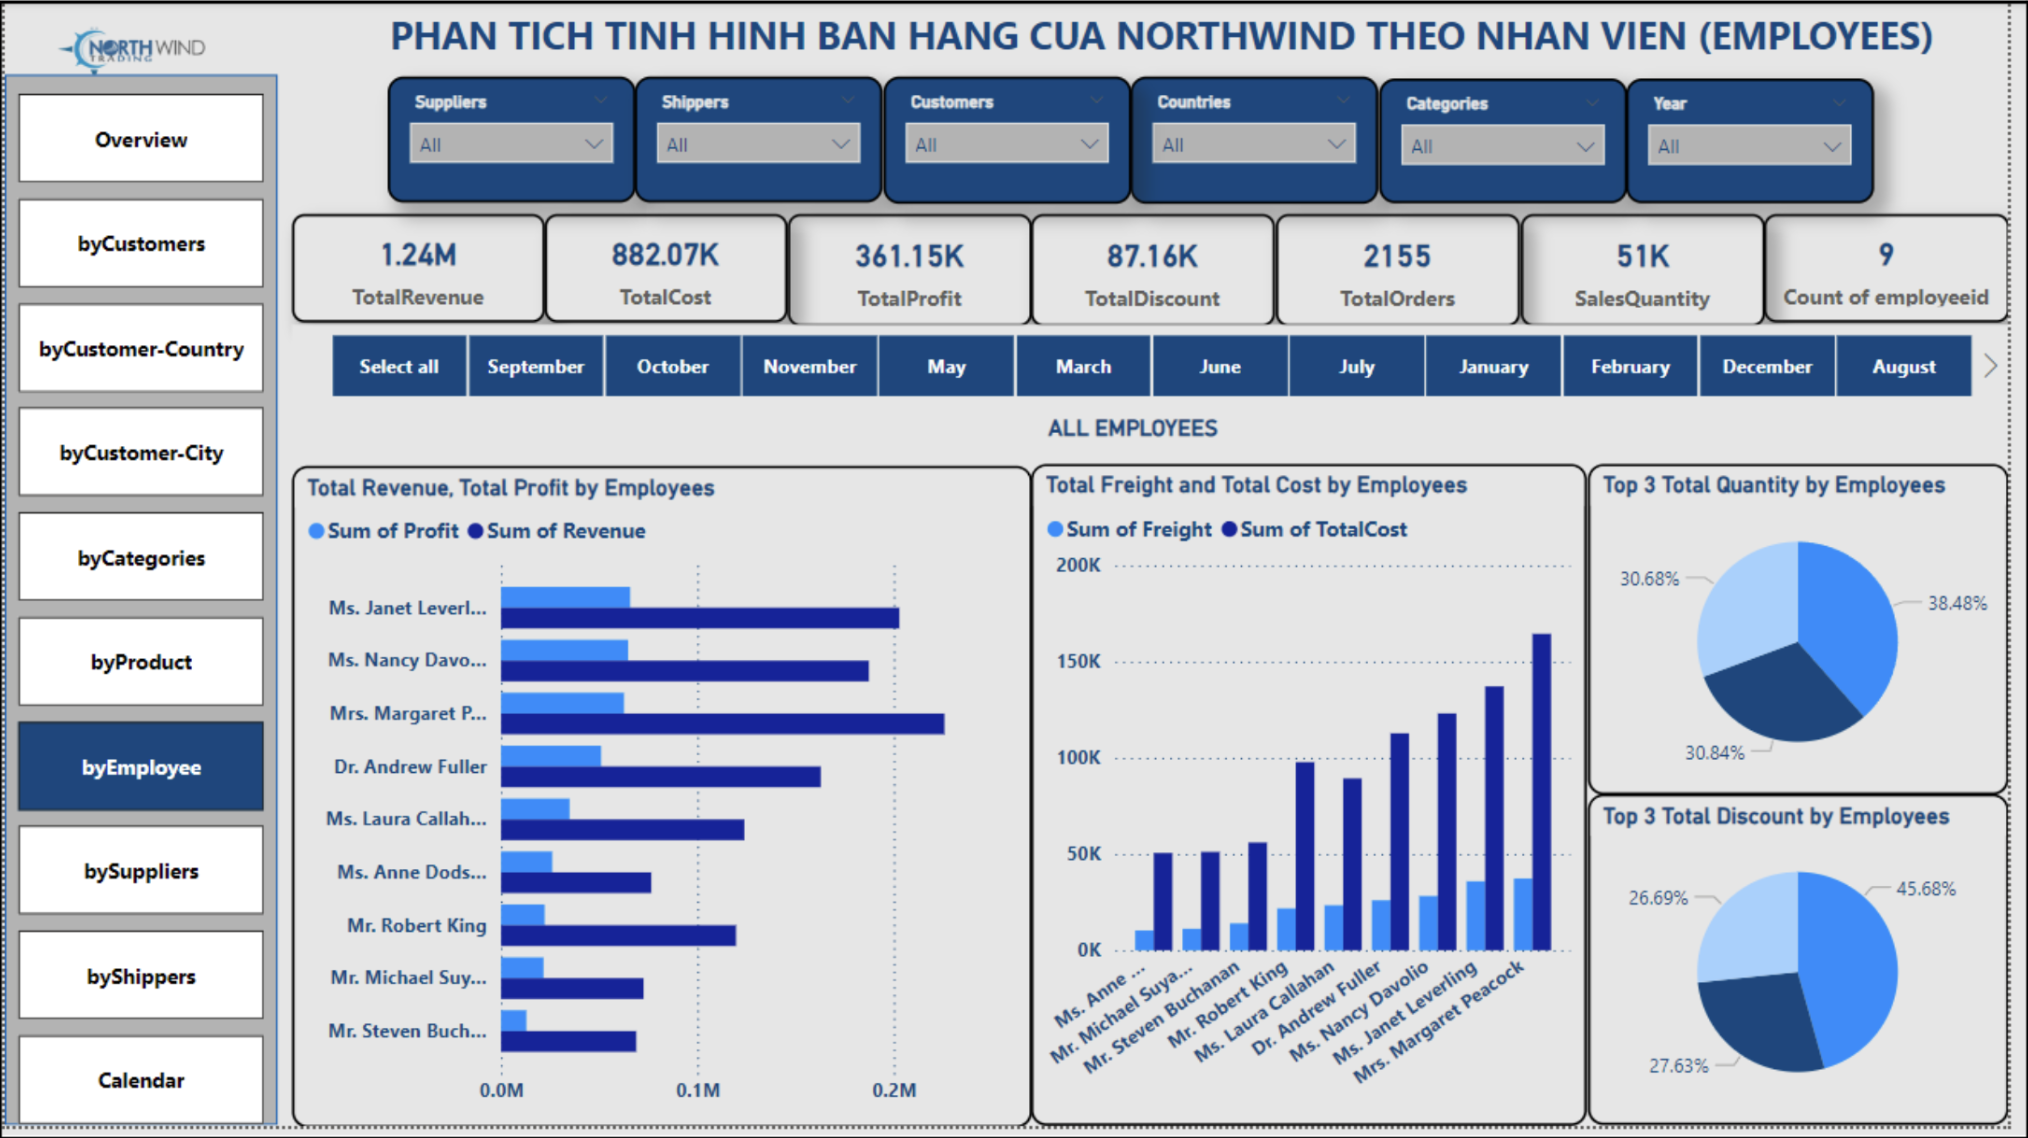

This screenshot's page, from the dashboard's own definition file:
{"tool":"powerbi","page":{"name":"byEmployee","canvas":[1280,720],"ordinal":6},"visuals":[{"type":"card","fields":{"Values":["FactOrders.TotalRevenue"]},"box":[183.3,135.5,161.7,69.5],"z":0},{"type":"card","fields":{"Values":["FactOrders.TotalProfit"]},"box":[499.9,135.5,156,71.7],"z":1000},{"type":"card","fields":{"Values":["Sum(FactOrders.TotalCost)"]},"box":[345.1,135.5,154.9,69.5],"z":2000},{"type":"card","fields":{"Values":["FactOrders.TotalDiscount"]},"box":[655.9,135.5,156,71.7],"z":3000},{"type":"card","fields":{"Values":["CountNonNull(employees.employeeid)"]},"box":[1124,135.5,157.2,69.5],"z":4000},{"type":"card","fields":{"Values":["Sum(FactOrders.Quantity)"]},"box":[968,135.5,156,71.7],"z":5000},{"type":"clusteredBarChart","title":"Total Revenue, Total Profit by Employees","fields":{"Category":["employees.fullname"],"Y":["Sum(FactOrders.Profit)","Sum(FactOrders.Revenue)"]},"box":[183.3,297.2,472.6,423.6],"z":6000},{"type":"textbox","box":[206.1,0,1064.8,47.8],"z":7000},{"type":"card","fields":{"Values":["CountNonNull(FactOrders.OrderID)"]},"box":[812,135.5,156,71.7],"z":8000},{"type":"image","box":[10,10,157.2,47.8],"z":9000},{"type":"shape","box":[0,46.7,174.2,673],"z":10000},{"type":"pageNavigator","box":[9.1,59.2,157.2,660.5],"z":11000},{"type":"slicer","title":"Total Profit by Employees","fields":{"Values":["employees.fullname"]},"box":[244.3,47.3,158.3,80.9],"z":12000},{"type":"slicer","title":"Total Profit by Employees","fields":{"Values":["suppliers.companyname"]},"box":[402.6,47.3,158.3,80.9],"z":13000},{"type":"slicer","title":"Total Profit by Employees","fields":{"Values":["customers.contactname"]},"box":[719.1,47.3,158.3,82],"z":14000},{"type":"slicer","title":"Total Profit by Employees","fields":{"Values":["categories.categoryname"]},"box":[877.4,48.4,158.3,79.7],"z":15000},{"type":"slicer","title":"Total Profit by Employees","fields":{"Values":["shippers.companyname"]},"box":[1035.7,48.4,158.3,79.7],"z":16000},{"type":"pieChart","title":"Top 3 Total Quantity  by Employees","fields":{"Category":["employees.fullname"],"Y":["Sum(FactOrders.Quantity)"]},"box":[1011.2,296.1,268.8,211.8],"z":17000},{"type":"clusteredColumnChart","title":"Total Freight and Total Cost by Employees","fields":{"Category":["employees.fullname"],"Y":["Sum(FactOrders.Freight)","Sum(FactOrders.TotalCost)"]},"box":[655.9,296.1,355.3,423.6],"z":18000},{"type":"slicer","title":"Total Profit by Employees","fields":{"Values":["customers.contactname"]},"box":[561.4,47.8,158.3,82],"z":19000},{"type":"slicer","fields":{"Values":["Calendar.MonthName"]},"box":[183.3,207.3,1096.7,52.4],"z":20000},{"type":"card","fields":{"Values":["employees.selectedEmployee"]},"box":[570.5,259.6,299.5,26.2],"z":21000},{"type":"pieChart","title":"Top 3 Total Discount  by Employees","fields":{"Category":["employees.fullname"],"Y":["Sum(FactOrders.Quantity)"]},"box":[1011.2,507.9,268.8,211.8],"z":22000}]}

Visuals, with their boxes in screenshot pixels (x1, y1, x2, y2), scaled from the page's 1280x720 canvas onto the 2028x1138 screenshot:
card - FactOrders.TotalRevenue: locate(290, 214, 547, 324)
card - FactOrders.TotalProfit: locate(792, 214, 1039, 327)
card - Sum(FactOrders.TotalCost): locate(547, 214, 792, 324)
card - FactOrders.TotalDiscount: locate(1039, 214, 1286, 327)
card - CountNonNull(employees.employeeid): locate(1781, 214, 2027, 324)
card - Sum(FactOrders.Quantity): locate(1534, 214, 1781, 327)
"Total Revenue, Total Profit by Employees" clusteredBarChart: locate(290, 470, 1039, 1137)
textbox: locate(327, 0, 2014, 76)
card - CountNonNull(FactOrders.OrderID): locate(1287, 214, 1534, 327)
image: locate(16, 16, 265, 91)
shape: locate(0, 74, 276, 1137)
pageNavigator: locate(14, 94, 263, 1137)
"Total Profit by Employees" slicer: locate(387, 75, 638, 203)
"Total Profit by Employees" slicer: locate(638, 75, 889, 203)
"Total Profit by Employees" slicer: locate(1139, 75, 1390, 204)
"Total Profit by Employees" slicer: locate(1390, 76, 1641, 202)
"Total Profit by Employees" slicer: locate(1641, 76, 1892, 202)
"Top 3 Total Quantity  by Employees" pieChart: locate(1602, 468, 2027, 803)
"Total Freight and Total Cost by Employees" clusteredColumnChart: locate(1039, 468, 1602, 1137)
"Total Profit by Employees" slicer: locate(889, 76, 1140, 205)
slicer - Calendar.MonthName: locate(290, 328, 2027, 410)
card - employees.selectedEmployee: locate(904, 410, 1378, 452)
"Top 3 Total Discount  by Employees" pieChart: locate(1602, 803, 2027, 1137)
